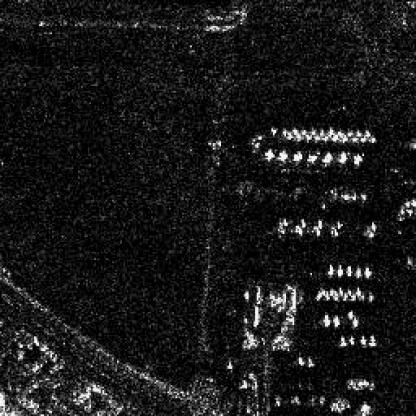airplane: (369, 325, 375, 346), (322, 312, 330, 325), (338, 336, 348, 346), (364, 266, 372, 278), (325, 265, 333, 275), (354, 268, 362, 278), (336, 265, 343, 276), (354, 286, 361, 296), (346, 266, 353, 276), (290, 127, 298, 135), (346, 309, 354, 317), (351, 318, 359, 326), (359, 335, 366, 344), (298, 128, 306, 135), (302, 134, 309, 142), (325, 128, 333, 135), (336, 286, 343, 294), (366, 136, 376, 141), (281, 128, 288, 135), (294, 133, 301, 140), (270, 127, 276, 135), (286, 132, 292, 140), (317, 128, 323, 136), (340, 135, 346, 143), (362, 130, 370, 136), (348, 336, 354, 344), (336, 130, 343, 136), (354, 130, 361, 136), (359, 135, 366, 141), (320, 135, 328, 140), (350, 136, 358, 141), (315, 291, 320, 299), (320, 288, 325, 296), (341, 292, 346, 300), (346, 288, 351, 296), (308, 130, 314, 136), (330, 135, 336, 141), (367, 294, 372, 301), (312, 135, 318, 140), (346, 130, 351, 136), (325, 291, 330, 297), (328, 288, 333, 294), (333, 293, 338, 299), (350, 294, 354, 301)
